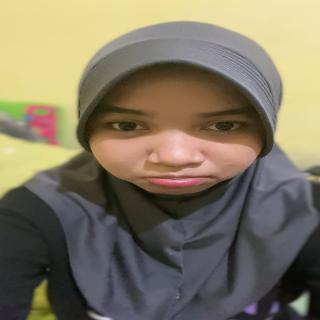Sedih: (94, 63, 265, 200)
